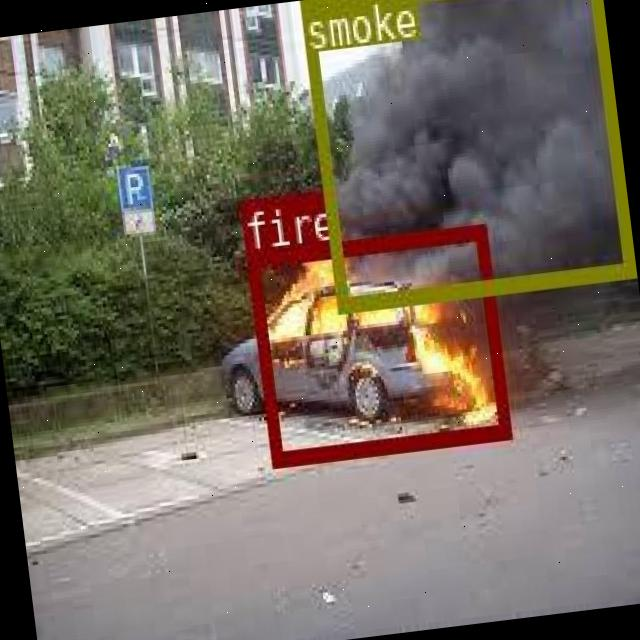fire: (243, 224, 508, 464)
smoke: (299, 0, 631, 308)
